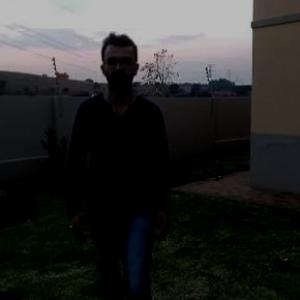follow: (65, 25, 172, 299)
